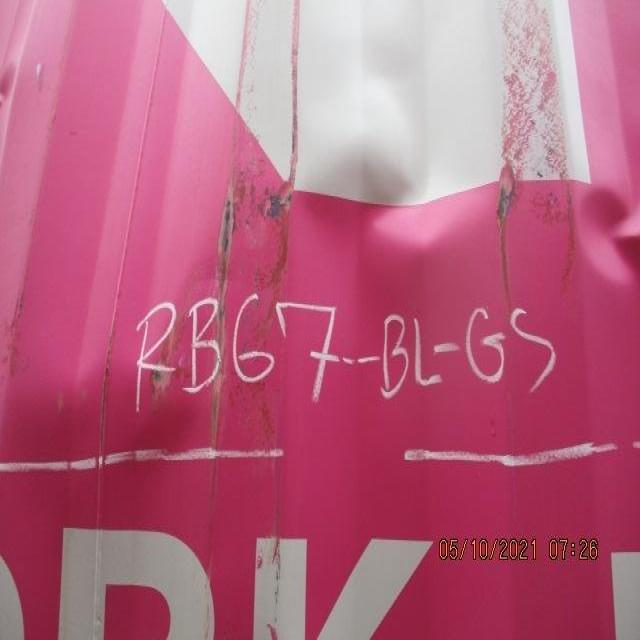dent: (5, 109, 639, 497)
